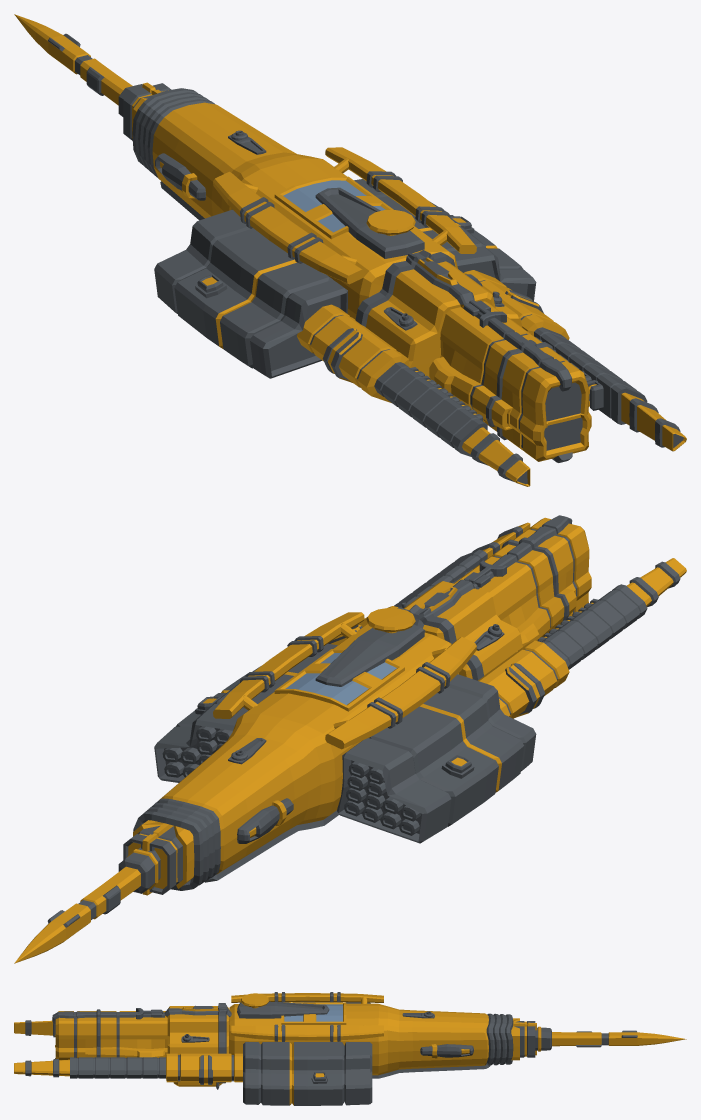
The model's file is Mothership_02_Yellow.fbx.
3 views of the same model, one above another, from view 1: azimuth 30°, elevation 25°; view 2: azimuth 150°, elevation 25°; view 3: azimuth 270°, elevation 25° (orthographic). The views are drawn at different scales.
Visible parts, largest first — view 1: Mothership_02_Yellow; view 2: Mothership_02_Yellow; view 3: Mothership_02_Yellow.
Boxes of the visible parts, left/top/right/bottom form: Mothership_02_Yellow: left=14, top=14, right=686, bottom=486; Mothership_02_Yellow: left=14, top=515, right=686, bottom=963; Mothership_02_Yellow: left=14, top=992, right=686, bottom=1105.
Bounding box in the file's own units: 2667 × 1241 × 9550.
Materials: 3 (3 with a texture image).
